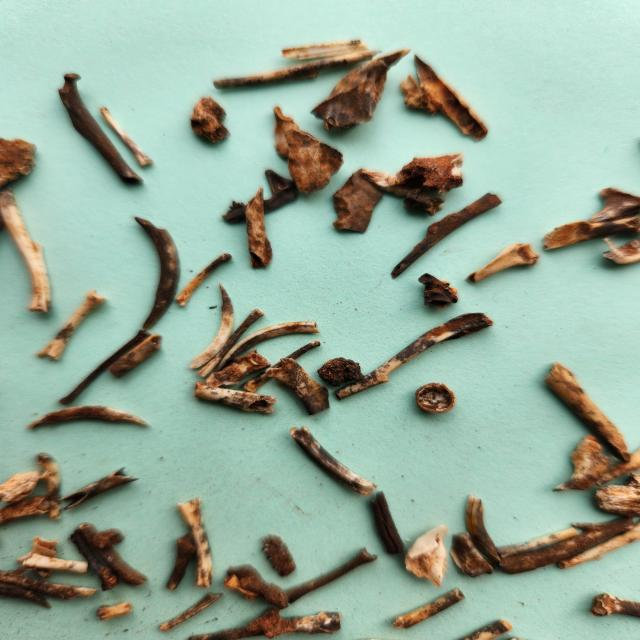fossil: (332, 308, 501, 406), (50, 69, 148, 192), (310, 38, 423, 135), (388, 192, 507, 281), (540, 363, 636, 465), (497, 514, 639, 579), (412, 53, 490, 154), (54, 329, 155, 406), (0, 192, 59, 318), (210, 50, 384, 92), (284, 421, 380, 497), (127, 215, 186, 333), (33, 286, 113, 369), (176, 605, 361, 640), (212, 318, 325, 375), (283, 546, 384, 608), (217, 166, 306, 228), (78, 520, 156, 590), (24, 399, 154, 440), (195, 306, 268, 379), (361, 150, 471, 198), (173, 496, 227, 590), (263, 355, 341, 416), (326, 165, 392, 236), (184, 282, 236, 371), (97, 100, 158, 175), (61, 464, 143, 518), (280, 126, 344, 194), (169, 248, 239, 310), (538, 215, 640, 255), (0, 565, 100, 605), (549, 432, 612, 494), (390, 584, 477, 628), (554, 528, 640, 572), (463, 238, 542, 285), (224, 562, 298, 609), (190, 379, 278, 418), (401, 522, 453, 588), (68, 528, 122, 590), (106, 328, 171, 378), (242, 186, 278, 272), (156, 591, 228, 634), (267, 103, 319, 161), (275, 35, 377, 64), (368, 489, 410, 559), (203, 346, 272, 388), (462, 494, 504, 563), (161, 529, 205, 594), (188, 94, 236, 152), (252, 527, 304, 580), (492, 526, 581, 556), (0, 493, 68, 532), (0, 132, 41, 196), (585, 179, 640, 225), (32, 448, 77, 502), (14, 534, 63, 583), (448, 531, 492, 585), (407, 378, 461, 418), (314, 356, 373, 390), (22, 550, 96, 577), (414, 273, 468, 309), (400, 72, 438, 122), (454, 614, 526, 640), (591, 588, 640, 626), (399, 186, 453, 220), (0, 466, 49, 503), (0, 584, 56, 612), (597, 238, 640, 270), (90, 601, 138, 626)
